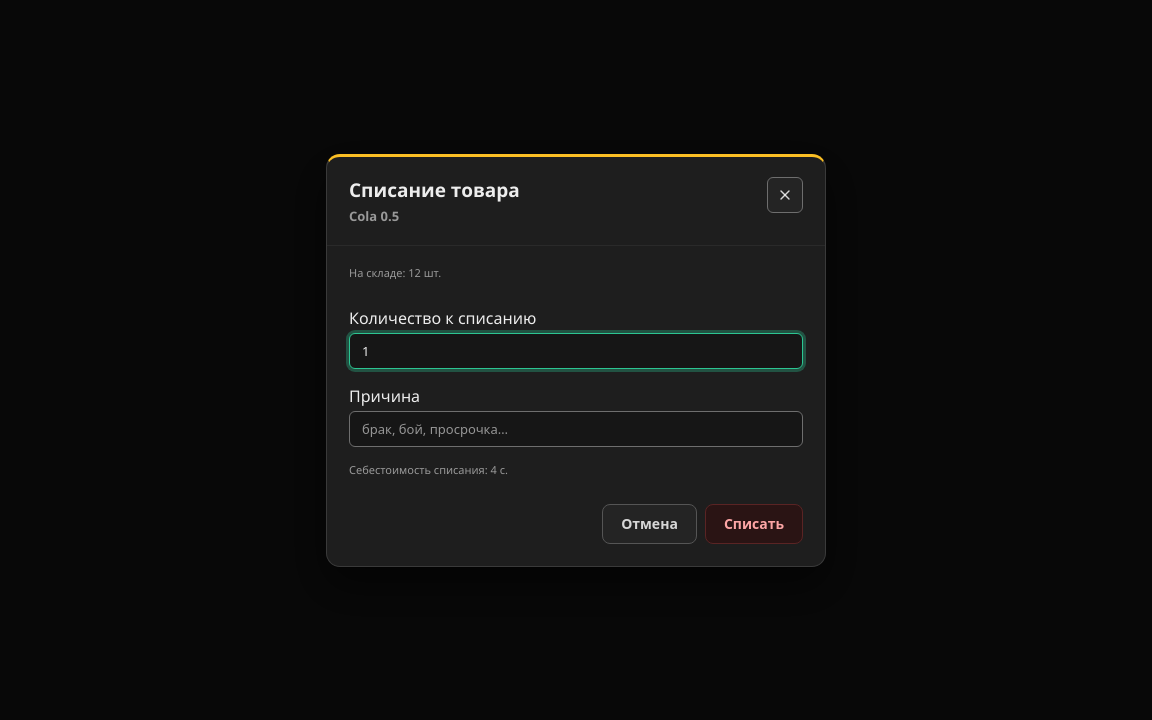
Scenario: WriteOffDialog › не даёт списать больше остатка
The image size is (1152, 720).
Replace the text in the field labelled "Количество к списанию" with "99" at (576, 350), box [349,332,803,368]
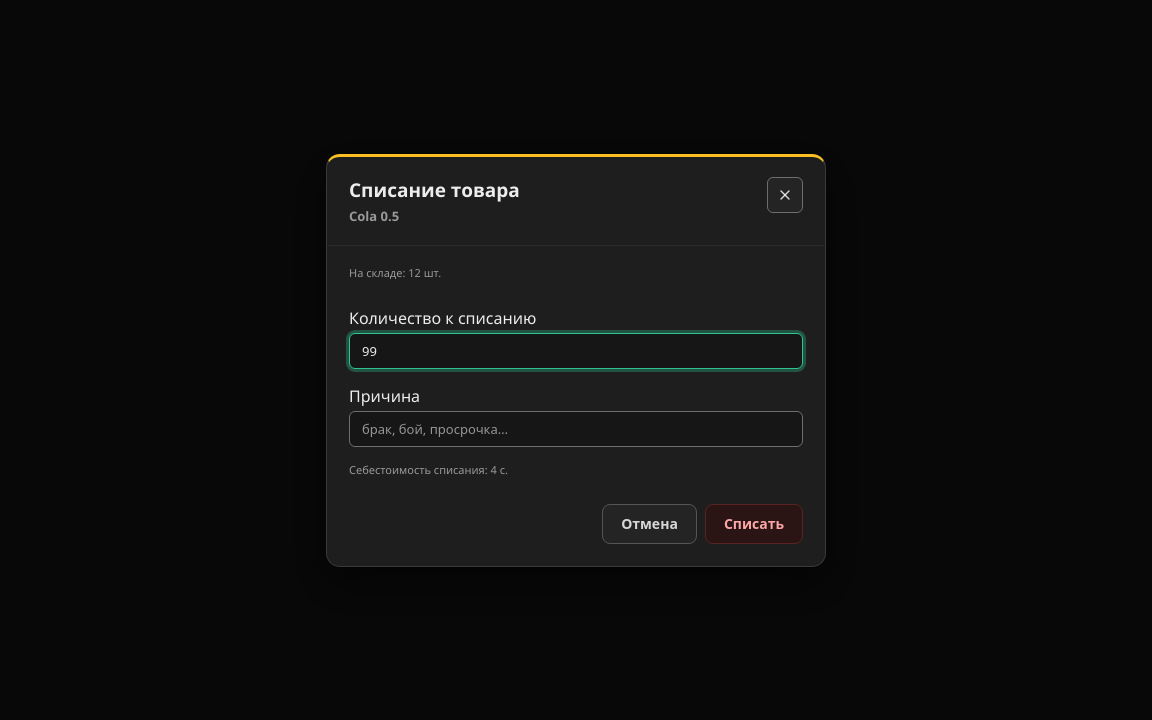
Type "бой" into the field labelled "Причина" at (576, 428), box [349,410,803,446]
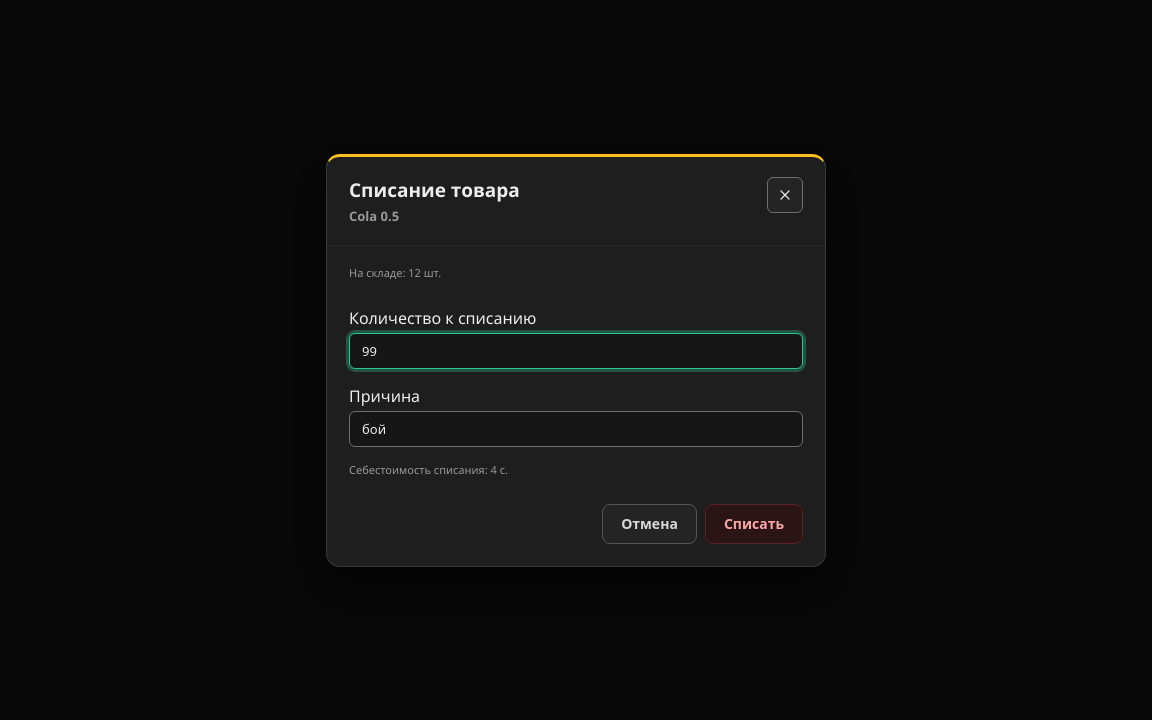
Click the button "Списать" at (754, 524), box [705,504,803,544]
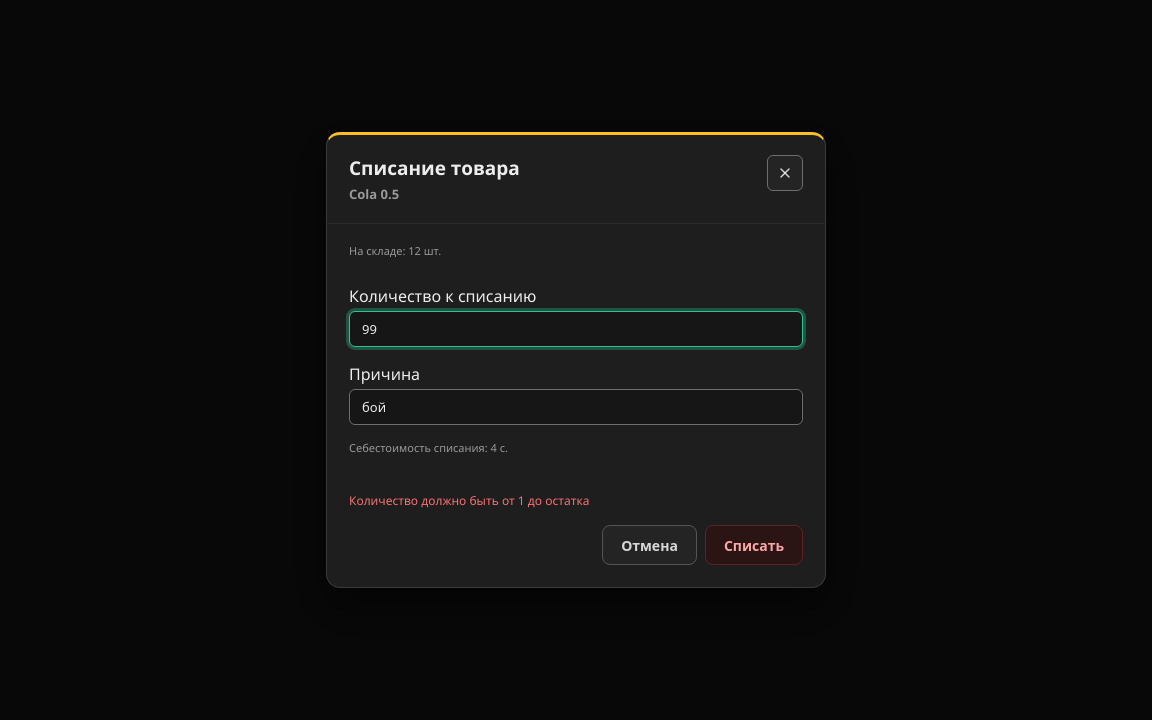
Expected: the text "Количество должно быть от 1 до остатка" is shown, [349,492,590,509]
